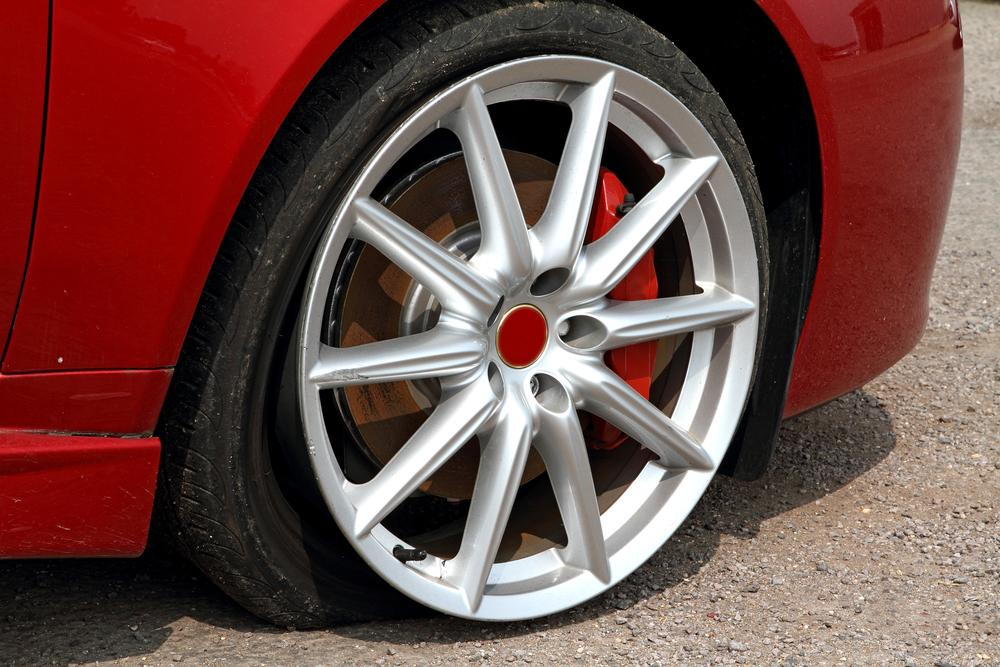tire flat: (156, 0, 770, 631)
